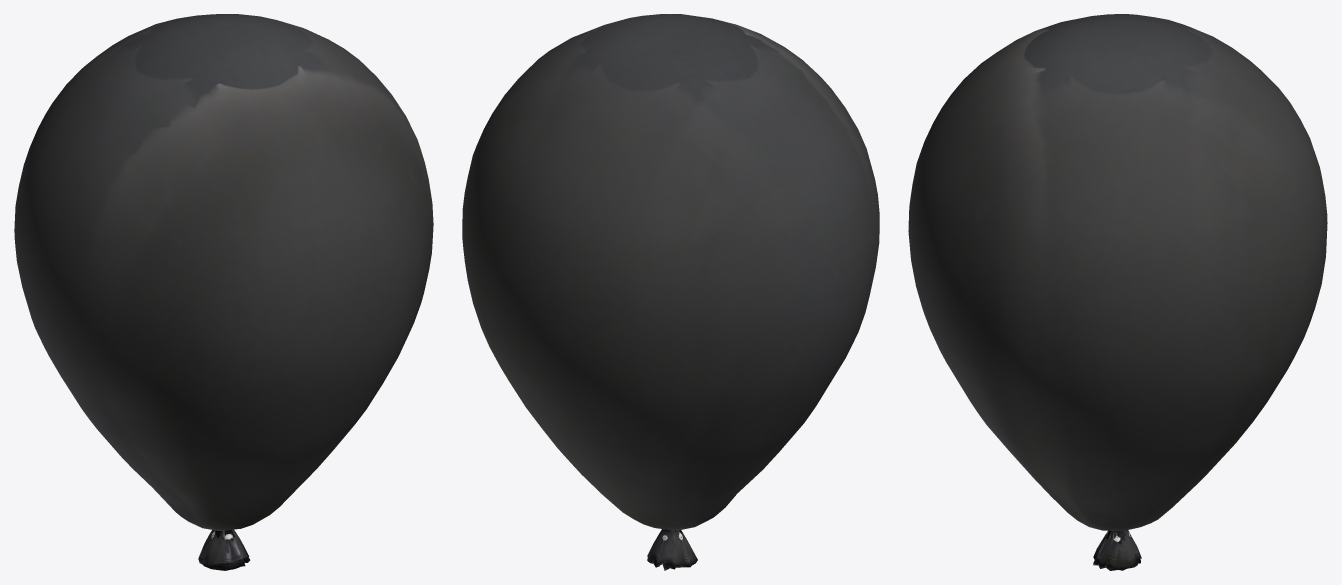
Rendered from A_single_low_poly_3D__1209034427_texture.fbx.
3 renders of one model, left to right at view 1: azimuth 30°, elevation 25°; view 2: azimuth 150°, elevation 25°; view 3: azimuth 270°, elevation 25°, orthographic.
Parts seen in each view (by area): view 1: Mesh_0; view 2: Mesh_0; view 3: Mesh_0.
Part boxes in pixels (<box>): Mesh_0: <box>14,14,433,570</box>; Mesh_0: <box>462,14,879,570</box>; Mesh_0: <box>908,14,1327,570</box>.
Bounding box in the file's own units: 130 × 181 × 130.
1 material, 1 textured.
